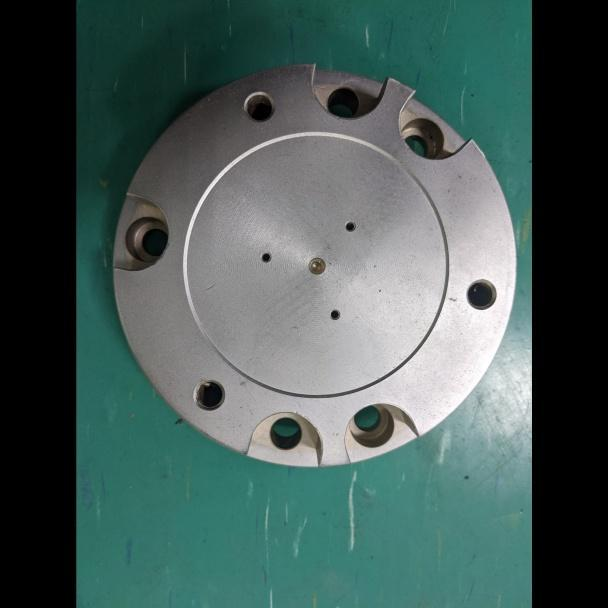hole: (117, 209, 175, 273), (343, 396, 405, 453), (396, 105, 452, 163), (264, 411, 308, 459), (320, 82, 362, 123), (240, 84, 278, 127), (190, 375, 228, 414), (462, 276, 499, 315), (342, 217, 358, 234), (258, 249, 273, 266), (327, 307, 342, 322)
